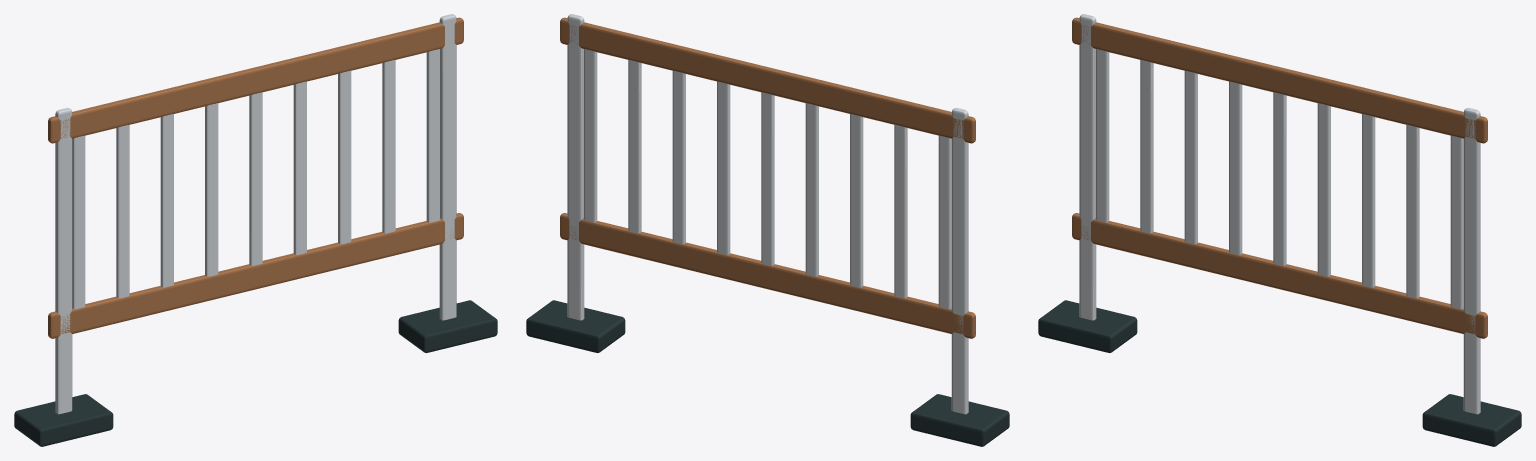
Rendered from wp-barriere-de-terrasse.glb.
The picture shows the model from 3 angles, left to right: view 1: azimuth 30°, elevation 25°; view 2: azimuth 150°, elevation 25°; view 3: azimuth 330°, elevation 25°; orthographic projection.
Parts seen in each view (by area): view 1: wp-barriere-de-terrasse; view 2: wp-barriere-de-terrasse; view 3: wp-barriere-de-terrasse.
Part boxes in pixels (x1,y1,x2,y2): wp-barriere-de-terrasse: (14,14,497,446); wp-barriere-de-terrasse: (526,14,1009,446); wp-barriere-de-terrasse: (1038,14,1521,446).
Bounding box in the file's own units: 1.5 × 1 × 0.15.
